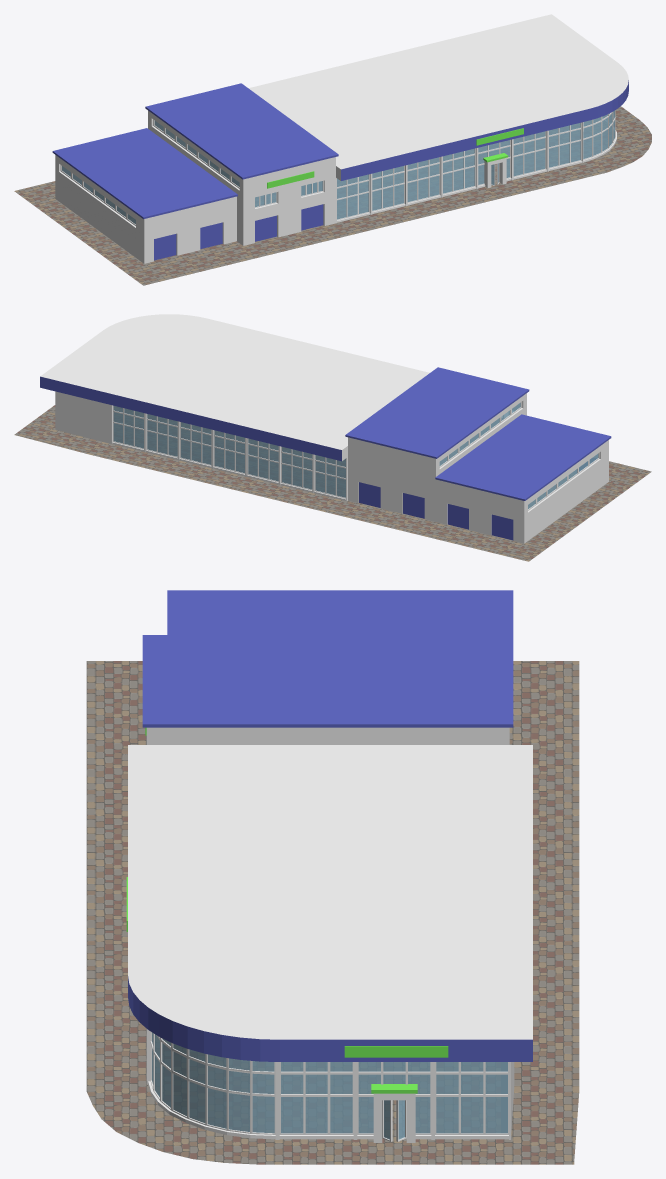
The picture shows the model from 3 angles, top to bottom: view 1: azimuth 30°, elevation 25°; view 2: azimuth 150°, elevation 25°; view 3: azimuth 270°, elevation 25°; orthographic projection. The views are drawn at different scales.
Parts seen in each view (by area): view 1: TrackShop.RoofWalls_4, TrackShop.Garage_8, Ground_11, TrackShop.PlaneWindow.014_26, TrackShop.PlaneWindow.013_25, TrackShop.PlaneWindow.007_18, TrackShop.PlaneWindow.009_21, TrackShop.PlaneWindow.010_22, TrackShop.PlaneWindow.006_17, TrackShop.CornerWindow_0, TrackShop.DoorWindow.001_6, TrackShop.Entrance.001_7; view 2: TrackShop.RoofWalls_4, TrackShop.Garage_8, Ground_11, TrackShop.PlaneWindow.004_19, TrackShop.PlaneWindow.001_13, TrackShop.PlaneWindow.011_23, TrackShop.PlaneWindow.012_24, TrackShop.PlaneWindow.002_14, TrackShop.PlaneWindow_12, TrackShop.PlaneWindow.008_20; view 3: TrackShop.RoofWalls_4, Ground_11, TrackShop.Garage_8, TrackShop.CornerWindow_0, TrackShop.PlaneWindow.003_15, TrackShop.PlaneWindow.005_16, TrackShop.DoorWindow_2, TrackShop.Entrance_3, TrackShop.Doors_1.
Boxes of the visible parts, x1,y1,x2,y2 form: TrackShop.RoofWalls_4: [248, 14, 628, 180]; TrackShop.Garage_8: [52, 83, 338, 263]; Ground_11: [14, 106, 651, 285]; TrackShop.PlaneWindow.014_26: [336, 174, 371, 223]; TrackShop.PlaneWindow.013_25: [371, 165, 406, 214]; TrackShop.PlaneWindow.007_18: [512, 130, 547, 179]; TrackShop.PlaneWindow.009_21: [442, 148, 477, 197]; TrackShop.PlaneWindow.010_22: [406, 156, 441, 205]; TrackShop.PlaneWindow.006_17: [548, 122, 583, 171]; TrackShop.CornerWindow_0: [583, 110, 616, 162]; TrackShop.DoorWindow.001_6: [477, 139, 512, 188]; TrackShop.Entrance.001_7: [483, 153, 508, 188]; TrackShop.RoofWalls_4: [40, 314, 429, 500]; TrackShop.Garage_8: [345, 367, 611, 543]; Ground_11: [14, 405, 651, 561]; TrackShop.PlaneWindow.004_19: [245, 438, 279, 484]; TrackShop.PlaneWindow.001_13: [144, 413, 178, 459]; TrackShop.PlaneWindow.011_23: [313, 454, 346, 501]; TrackShop.PlaneWindow.012_24: [279, 446, 312, 493]; TrackShop.PlaneWindow.002_14: [111, 405, 144, 451]; TrackShop.PlaneWindow_12: [178, 421, 211, 468]; TrackShop.PlaneWindow.008_20: [212, 429, 245, 476]; TrackShop.RoofWalls_4: [126, 745, 532, 1136]; Ground_11: [86, 661, 579, 1164]; TrackShop.Garage_8: [142, 590, 513, 744]; TrackShop.CornerWindow_0: [146, 1029, 277, 1139]; TrackShop.PlaneWindow.003_15: [278, 1062, 355, 1139]; TrackShop.PlaneWindow.005_16: [433, 1062, 510, 1139]; TrackShop.DoorWindow_2: [355, 1062, 433, 1139]; TrackShop.Entrance_3: [371, 1084, 417, 1142]; TrackShop.Doors_1: [382, 1100, 406, 1141].
Bounding box in the file's own units: 96.62 × 11.79 × 39.93.
6 materials, 1 textured.
